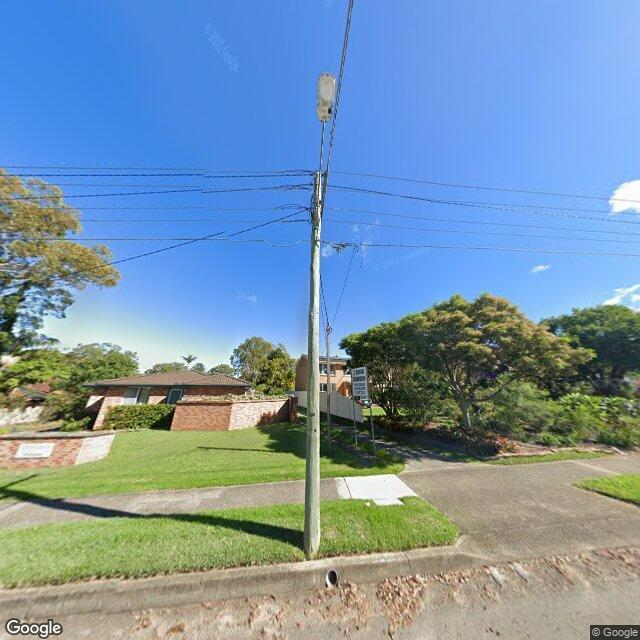crossarm: (321, 170, 329, 220)
streetlight: (314, 72, 337, 229)
timber-pole: (303, 171, 323, 558), (326, 323, 332, 459)
